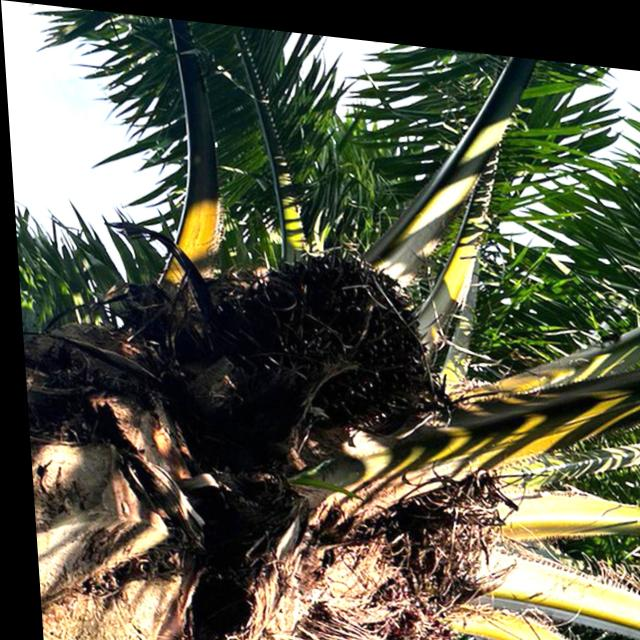ripe: (233, 220, 443, 439)
